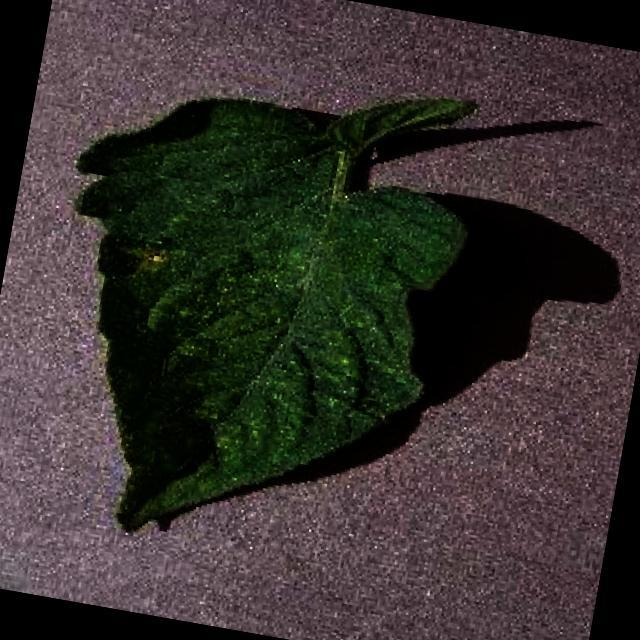Tomato spider mites leaf: (16, 73, 485, 578)
